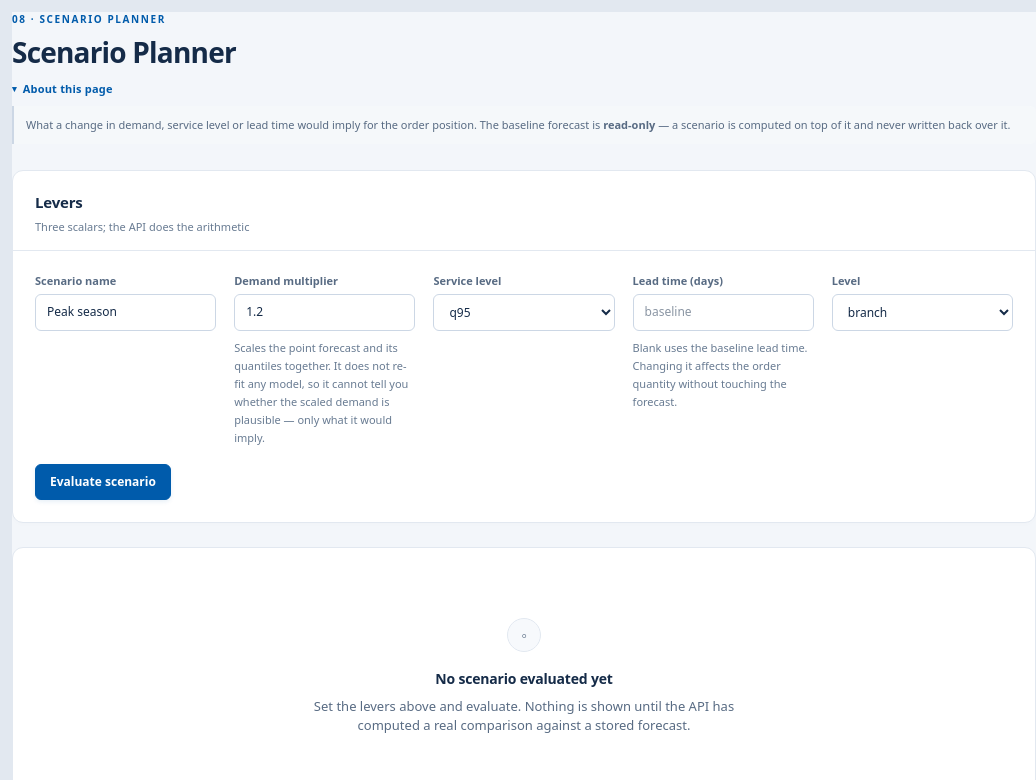
Scenario: ScenarioPlannerPage › shows a 404 as an empty state with the API guidance
Click the button "Evaluate scenario" at (103, 482), box [35,464,171,500]
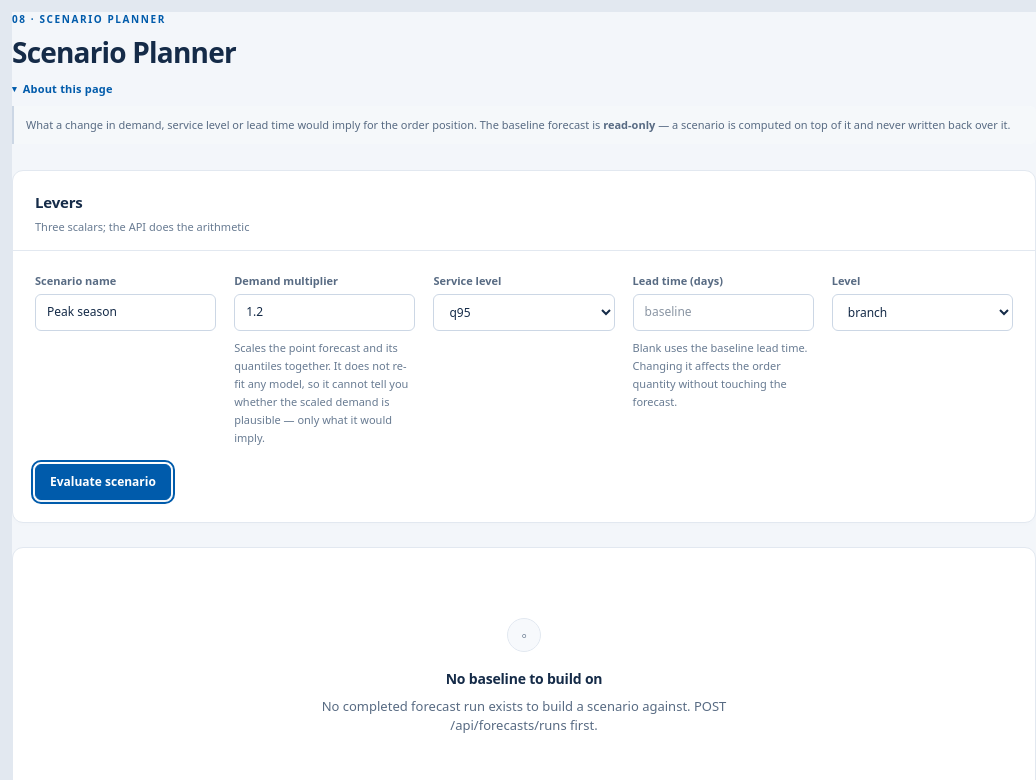
Now the heading "No baseline to build on" is shown, box [446,669,602,688]
Now the text "POST /api/forecasts/runs" is shown, box [450,697,726,734]
